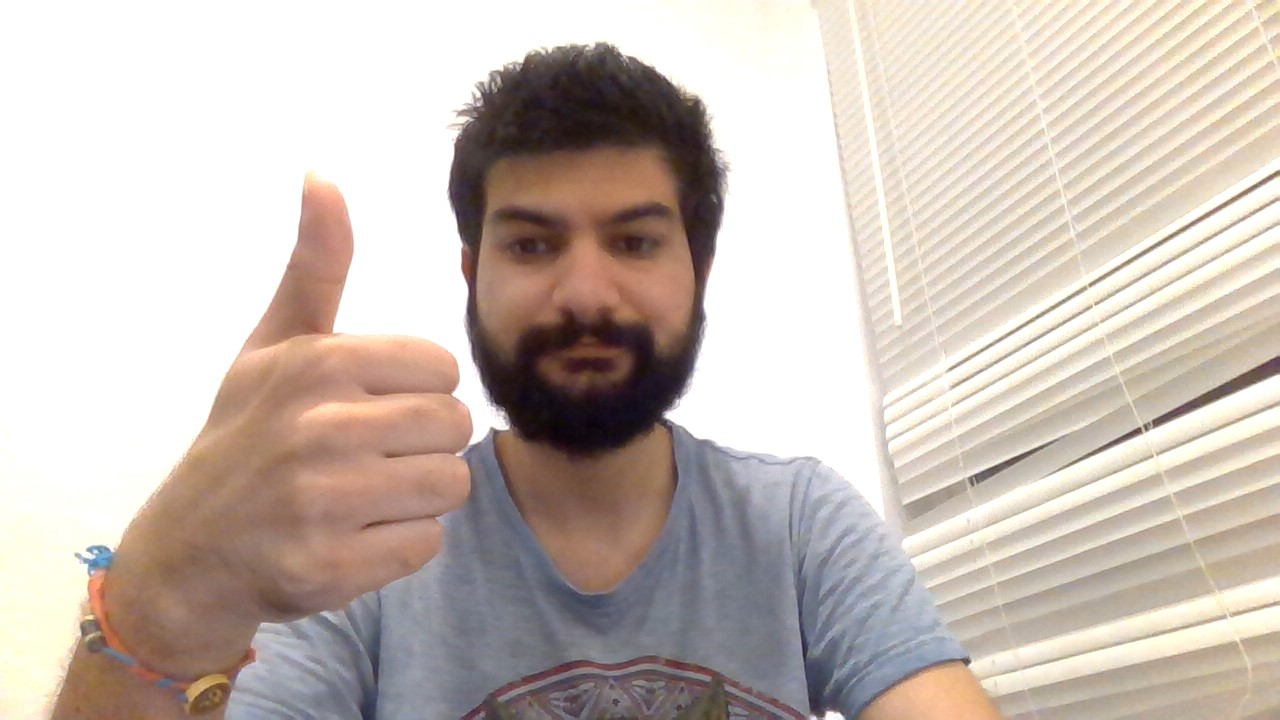up: (194, 162, 494, 627)
